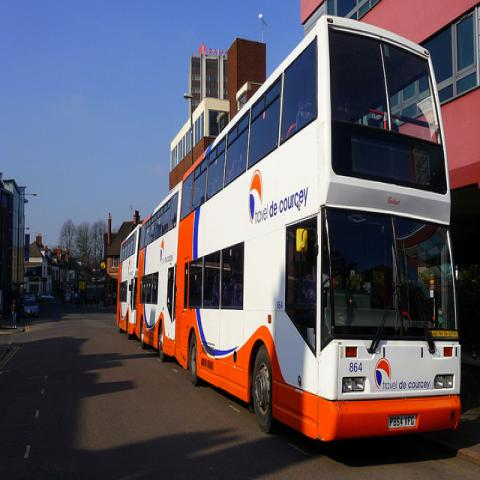bus: (117, 13, 459, 439)
car: (21, 298, 39, 316), (65, 294, 70, 303)
